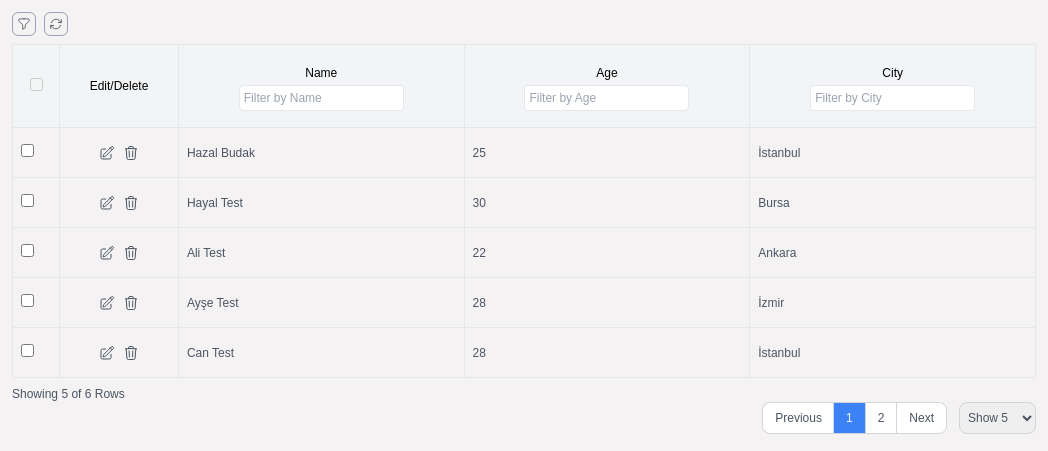
Test: DataTable Component Tests › applies column filters correctly
Type "İstanbul" into the field with placeholder "Filter by City".
click(893, 98); type("İstanbul")  # box [810,85,975,111]
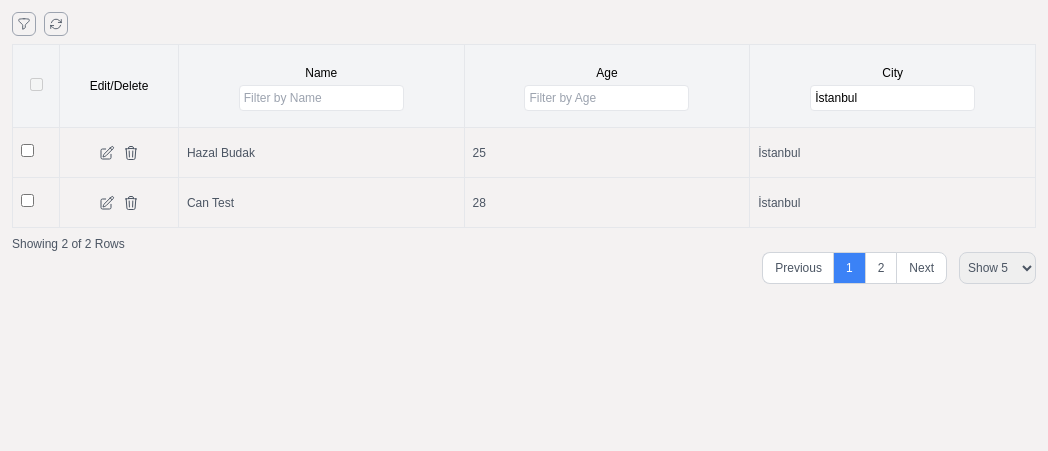
Expected: the text "Hazal Budak" is shown, [178,128,464,178]
Expected: the text "Ali Test" is gone
